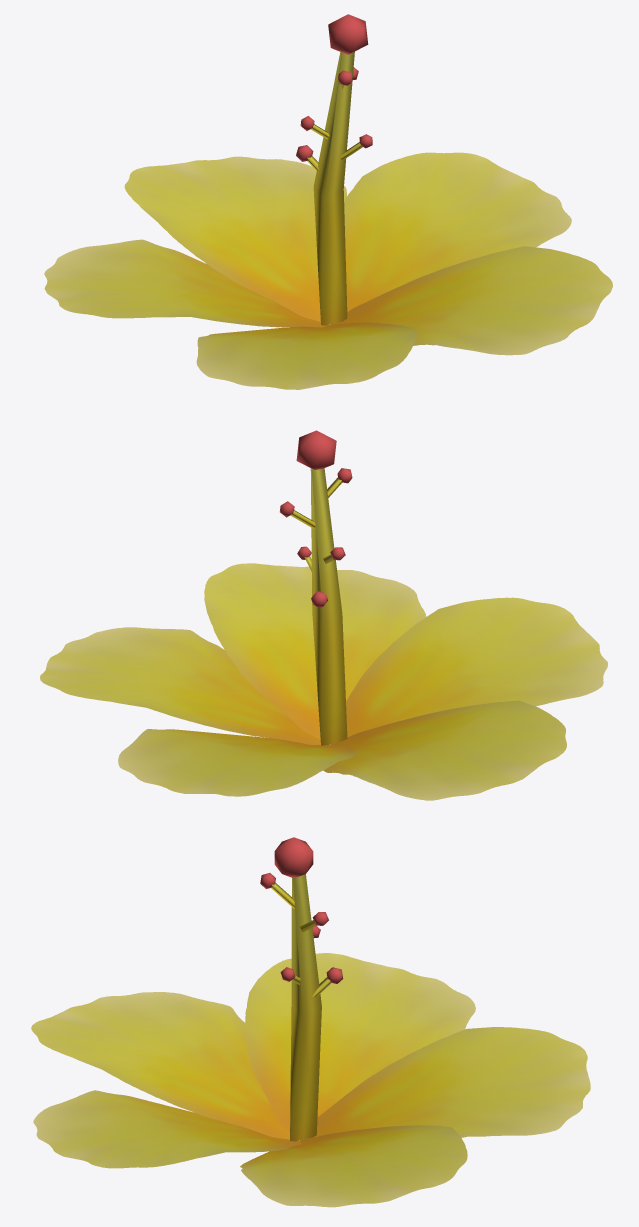
The model's file is HibiscusYellow.fbx.
3 renders of one model, top to bottom at view 1: azimuth 30°, elevation 25°; view 2: azimuth 150°, elevation 25°; view 3: azimuth 270°, elevation 25°, orthographic.
Parts seen in each view (by area): view 1: Hibiscus_Yellow; view 2: Hibiscus_Yellow; view 3: Hibiscus_Yellow.
Part boxes in pixels (x1=…): Hibiscus_Yellow: x1=44, y1=14, x2=612, y2=389; Hibiscus_Yellow: x1=40, y1=430, x2=607, y2=800; Hibiscus_Yellow: x1=31, y1=837, x2=590, y2=1207.
Bounding box in the file's own units: 43.45 × 24.37 × 42.81.
